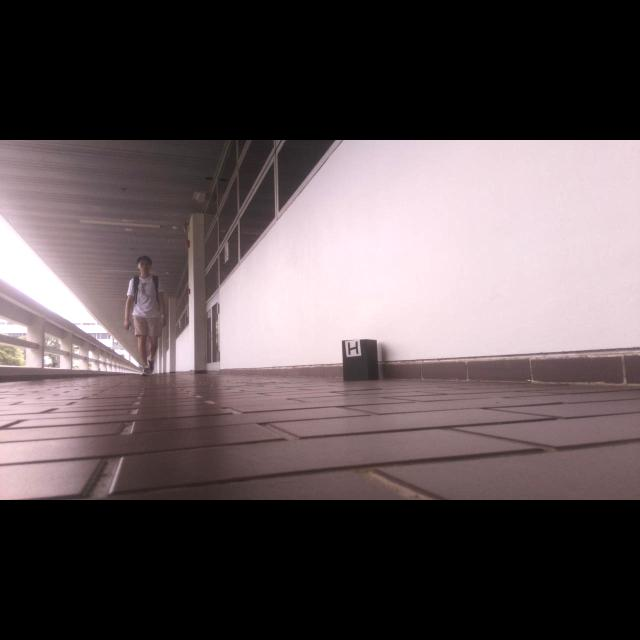H: (348, 341, 358, 355)
